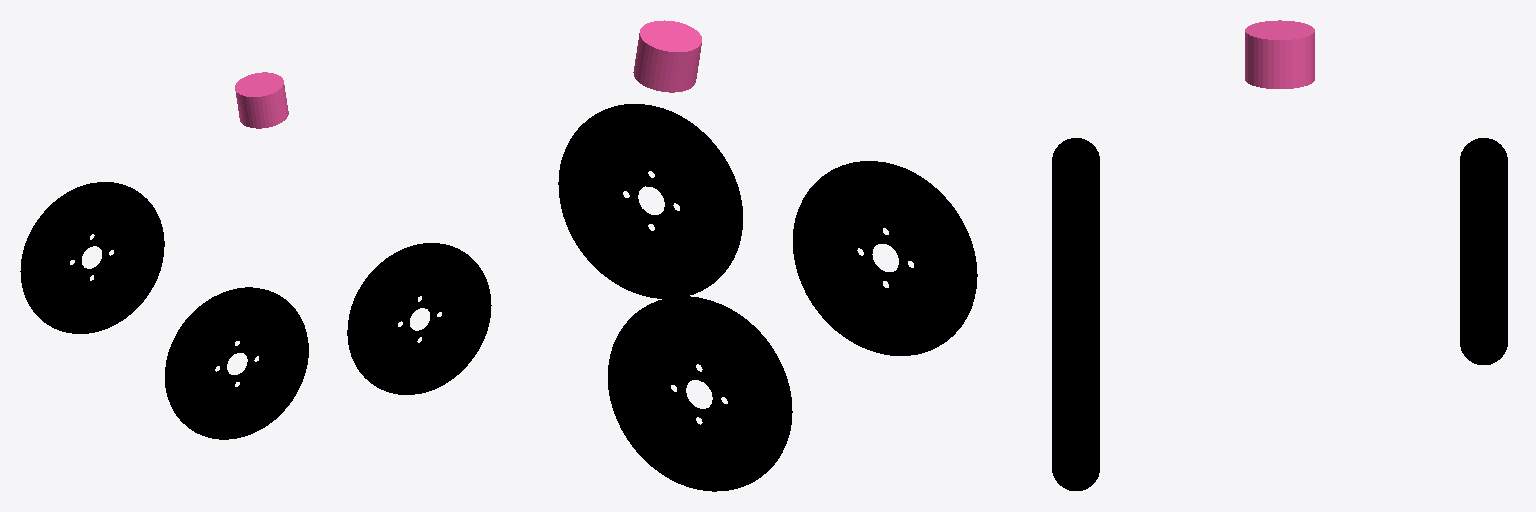
robot.urdf — follow_master:
<?xml version="1.0" encoding="utf-8"?>
<!-- This URDF was automatically created by SolidWorks to URDF Exporter! Originally created by [author] ([email redacted]) 
     Commit Version: 1.6.0-1-g15f4949  Build Version: 1.6.7594.29634
     For more information, please see http://wiki.ros.org/sw_urdf_exporter -->
<robot
  name="follow_master">
  <link name="dummy">
   </link>
  <link
    name="master/base_link">
    <inertial>
      <origin
        xyz="-0.0028375 0.0007996 0.004345"
        rpy="0 0 0" />
      <mass
        value="97.424" />
      <inertia
        ixx="3.7064"
        ixy="0.023148"
        ixz="0.0022243"
        iyy="4.5327"
        iyz="-0.0025154"
        izz="6.3559" />
    </inertial>
    <visual>
      <origin
        xyz="0 0 0"
        rpy="0 0 0" />
      <geometry>
        <mesh
          filename="package://follow_module/meshes/base_link.STL" />
      </geometry>
      <material
        name="">
        <color
          rgba="1 1 0 1" />
      </material>
    </visual>
    <collision>
      <origin
        xyz="0 0 0"
        rpy="0 0 0" />
      <geometry>
        <mesh
          filename="package://follow_module/meshes/base_link.STL" />
      </geometry>
    </collision>
  </link>
  <joint name="dummy_joint" type="fixed">
     <parent link="dummy"/>
     <child link="master/base_link"/>
   </joint>
  <link
    name="Wheel_LF_Link">
    <inertial>
      <origin
        xyz="2.7756E-17 8.8935E-05 0"
        rpy="0 0 0" />
      <mass
        value="4.1316" />
      <inertia
        ixx="0.042953"
        ixy="2.5755E-18"
        ixz="-6.2831E-22"
        iyy="0.083026"
        iyz="9.7041E-18"
        izz="0.042953" />
    </inertial>
    <visual>
      <origin
        xyz="0 0 0"
        rpy="0 0 0" />
      <geometry>
        <mesh
          filename="package://follow_module/meshes/Wheel_LF_Link.STL" />
      </geometry>
      <material
        name="">
        <color
          rgba="0 0 0 1" />
      </material>
    </visual>
    <collision>
      <origin
        xyz="0 0 0"
        rpy="0 0 0" />
      <geometry>
        <mesh
          filename="package://follow_module/meshes/Wheel_LF_Link.STL" />
      </geometry>
    </collision>
  </link>
  <joint
    name="Wheel_LF_Joint"
    type="continuous">
    <origin
      xyz="0.2325 0.318 -0.035"
      rpy="0 0 0" />
    <parent
      link="master/base_link" />
    <child
      link="Wheel_LF_Link" />
    <axis
      xyz="0 1 0" />
  </joint>
  <link
    name="Wheel_RF_Link">
    <inertial>
      <origin
        xyz="2.7756E-17 -8.8935E-05 0"
        rpy="0 0 0" />
      <mass
        value="4.1316" />
      <inertia
        ixx="0.042953"
        ixy="2.5755E-18"
        ixz="6.2831E-22"
        iyy="0.083026"
        iyz="-9.7041E-18"
        izz="0.042953" />
    </inertial>
    <visual>
      <origin
        xyz="0 0 0"
        rpy="0 0 0" />
      <geometry>
        <mesh
          filename="package://follow_module/meshes/Wheel_RF_Link.STL" />
      </geometry>
      <material
        name="">
        <color
          rgba="0 0 0 1" />
      </material>
    </visual>
    <collision>
      <origin
        xyz="0 0 0"
        rpy="0 0 0" />
      <geometry>
        <mesh
          filename="package://follow_module/meshes/Wheel_RF_Link.STL" />
      </geometry>
    </collision>
  </link>
  <joint
    name="Wheel_RF_Joint"
    type="continuous">
    <origin
      xyz="0.2325 -0.318 -0.035"
      rpy="0 0 0" />
    <parent
      link="master/base_link" />
    <child
      link="Wheel_RF_Link" />
    <axis
      xyz="0 1 0" />
  </joint>
  <link
    name="Wheel_LB_Link">
    <inertial>
      <origin
        xyz="0 8.8935E-05 0"
        rpy="0 0 0" />
      <mass
        value="4.1316" />
      <inertia
        ixx="0.042953"
        ixy="2.5755E-18"
        ixz="-6.2831E-22"
        iyy="0.083026"
        iyz="9.7041E-18"
        izz="0.042953" />
    </inertial>
    <visual>
      <origin
        xyz="0 0 0"
        rpy="0 0 0" />
      <geometry>
        <mesh
          filename="package://follow_module/meshes/Wheel_LB_Link.STL" />
      </geometry>
      <material
        name="">
        <color
          rgba="0 0 0 1" />
      </material>
    </visual>
    <collision>
      <origin
        xyz="0 0 0"
        rpy="0 0 0" />
      <geometry>
        <mesh
          filename="package://follow_module/meshes/Wheel_LB_Link.STL" />
      </geometry>
    </collision>
  </link>
  <joint
    name="Wheel_LB_Joint"
    type="continuous">
    <origin
      xyz="-0.2325 0.318 -0.035"
      rpy="0 0 0" />
    <parent
      link="master/base_link" />
    <child
      link="Wheel_LB_Link" />
    <axis
      xyz="0 1 0" />
  </joint>
  <link
    name="Wheel_RB_Link">
    <inertial>
      <origin
        xyz="-2.7756E-17 -8.8935E-05 0"
        rpy="0 0 0" />
      <mass
        value="4.1316" />
      <inertia
        ixx="0.042953"
        ixy="2.5685E-18"
        ixz="-2.7475E-22"
        iyy="0.083026"
        iyz="-9.7041E-18"
        izz="0.042953" />
    </inertial>
    <visual>
      <origin
        xyz="0 0 0"
        rpy="0 0 0" />
      <geometry>
        <mesh
          filename="package://follow_module/meshes/Wheel_RB_Link.STL" />
      </geometry>
      <material
        name="follow_module">
        <color
          rgba="0 0 0 1" />
      </material>
    </visual>
    <collision>
      <origin
        xyz="0 0 0"
        rpy="0 0 0" />
      <geometry>
        <mesh
          filename="package://follow_module/meshes/Wheel_RB_Link.STL" />
      </geometry>
    </collision>
  </link>
  <joint
    name="Wheel_RB_Joint"
    type="continuous">
    <origin
      xyz="-0.2325 -0.318 -0.035"
      rpy="0 0 0" />
    <parent
      link="master/base_link" />
    <child
      link="Wheel_RB_Link" />
    <axis
      xyz="0 1 0" />
  </joint>
  <link
    name="Laser_Link">
    <inertial>
      <origin
        xyz="0 0 0"
        rpy="0 0 0" />
      <mass
        value="0.01" />
      <inertia
        ixx="0"
        ixy="0"
        ixz="0"
        iyy="0"
        iyz="0"
        izz="0" />
    </inertial>
    <visual>
      <origin
        xyz="0 0 0"
        rpy="0 0 0" />
      <geometry>
        <mesh
          filename="package://follow_module/meshes/Laser_Link.STL" />
      </geometry>
      <material
        name="">
        <color
          rgba="1 0.4117 0.7059 1" />
      </material>
    </visual>
    <collision>
      <origin
        xyz="0 0 0"
        rpy="0 0 0" />
      <geometry>
        <mesh
          filename="package://follow_module/meshes/Laser_Link.STL" />
      </geometry>
    </collision>
  </link>
  <joint
    name="Laser_Joint"
    type="fixed">
    <origin
      xyz="0.015 0 0.419"
      rpy="0 0 0" />
    <parent
      link="master/base_link" />
    <child
      link="Laser_Link" />
    <axis
      xyz="-0.1513 0 0.98849" />
    <limit
      lower="0"
      upper="0"
      effort="0"
      velocity="0" />
  </joint>
  <gazebo reference="master/base_link">
   <material>Gazebo/Yellow</material>
  </gazebo>
  <gazebo reference="Wheel_LF_Link">
   <material>Gazebo/Black</material>
  </gazebo>
  <gazebo reference="Wheel_RF_Link">
   <material>Gazebo/Black</material>
  </gazebo>
  <gazebo reference="Wheel_LB_Link">
   <material>Gazebo/Black</material>
  </gazebo>
  <gazebo reference="Wheel_RB_Link">
   <material>Gazebo/Black</material>
  </gazebo>
  <!--gazebo reference="Laser_Link">
   <material>Gazebo/Blue</material>
  </gazebo-->
  <!--gazebo reference="Laser_Link">
    <material>Gazebo/Blue</material>
    <sensor type="ray" name="velodyne-VLP16">
      <pose>0 0 0 0 0 0</pose>
      <visualize>false</visualize>
      <update_rate>10</update_rate>
      <ray>
        <scan>
          <horizontal>
            <samples>1800</samples>
            <resolution>1</resolution>
            <min_angle>-3.1415926535897931</min_angle>
            <max_angle>3.1415926535897931</max_angle>
          </horizontal>
          <vertical>
            <samples>32</samples>
            <resolution>1</resolution>
            <min_angle>-0.261799387799149436</min_angle>
            <max_angle>0.261799387799149436</max_angle>
          </vertical>
        </scan>
        <range>
          <min>0.30</min>
          <max>200.0</max>
          <resolution>0.003</resolution>
        </range>
        <noise>
          <type>gaussian</type>
          <mean>0.0</mean>
          <stddev>0.01</stddev>
        </noise>
      </ray>
      <plugin name="gazebo_ros_laser_controller" filename="libgazebo_ros_velodyne_laser.so">
        <topicName>/velodyne_points</topicName>
        <frameName>Laser_Link</frameName>
        <organize_cloud>false</organize_cloud>
        <min_range>0.40</min_range>
        <max_range>200.0</max_range>
        <gaussianNoise>0.008</gaussianNoise>
      </plugin>
    </sensor>
  </gazebo-->
  <!--  robot controller  -->
  <gazebo>
  <plugin name="skid_steer_drive_controller" filename="libgazebo_ros_skid_steer_drive.so">
    <updateRate>50.0</updateRate>
    <robotNamespace>master</robotNamespace>
    <leftFrontJoint>Wheel_LF_Joint</leftFrontJoint>
    <rightFrontJoint>Wheel_RF_Joint</rightFrontJoint>
    <leftRearJoint>Wheel_LB_Joint</leftRearJoint>
    <rightRearJoint>Wheel_RB_Joint</rightRearJoint> 
    <wheelSeparation>0.480</wheelSeparation>
    <wheelDiameter>0.35</wheelDiameter>
    <commandTopic>cmd_vel</commandTopic>
    <odometryTopic>odom</odometryTopic>
    <robotBaseFrame>master/base_link</robotBaseFrame>
    <odometryFrame>master/odom</odometryFrame>
    <torque>150</torque>
    <topicName>cmd_vel</topicName>
    <broadcastTF>1</broadcastTF>
    <covariance_x>0.0001</covariance_x>
    <covariance_y>0.0001</covariance_y>
    <covariance_yaw>0.01</covariance_yaw>
  </plugin>
</gazebo>
</robot>


--- Render facts (derived) ---
3 views of the same robot in one strip: view 1: azimuth 30°, elevation 25°; view 2: azimuth 150°, elevation 25°; view 3: azimuth 270°, elevation 25° (orthographic).
Robot: follow_master — 7 links, 6 joints (4 continuous, 2 fixed); root link dummy; default pose: all joints at 0.
Visible links, largest first — view 1: Wheel_RB_Link, Wheel_RF_Link, Wheel_LB_Link, Laser_Link; view 2: Wheel_LB_Link, Wheel_RB_Link, Wheel_RF_Link, Laser_Link; view 3: Wheel_RF_Link, Wheel_LB_Link, Wheel_RB_Link, Laser_Link.
Boxes of the visible links, x1=… form: Wheel_RB_Link: x1=165, y1=287, x2=308, y2=439; Wheel_RF_Link: x1=347, y1=243, x2=491, y2=394; Wheel_LB_Link: x1=20, y1=182, x2=164, y2=333; Laser_Link: x1=235, y1=72, x2=288, y2=128; Wheel_LB_Link: x1=608, y1=296, x2=792, y2=491; Wheel_RB_Link: x1=793, y1=161, x2=977, y2=355; Wheel_RF_Link: x1=558, y1=104, x2=742, y2=298; Laser_Link: x1=633, y1=20, x2=701, y2=92; Wheel_RF_Link: x1=1052, y1=264, x2=1099, y2=490; Wheel_LB_Link: x1=1460, y1=138, x2=1507, y2=364; Wheel_RB_Link: x1=1052, y1=138, x2=1099, y2=282; Laser_Link: x1=1245, y1=20, x2=1314, y2=88.
Size in the robot's own frame: 0.8205 by 0.7119 by 0.6792 metres.
4 mesh visuals loaded from 6 distinct referenced files (4 binary STL); not drawn: 2 (reference not matched to a file when rendering).